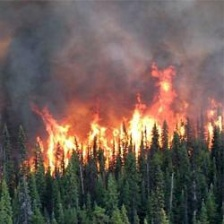fire: (13, 70, 224, 175)
smoke: (2, 9, 145, 98)
